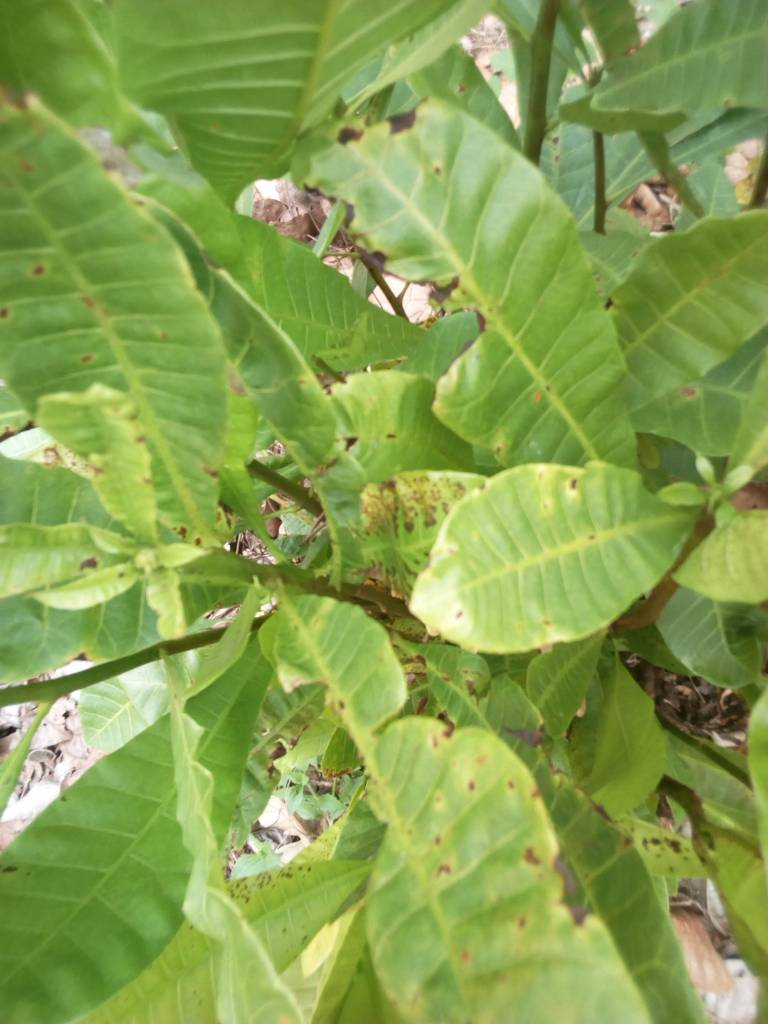Helopeltis anacardii: (266, 624, 619, 1024), (340, 107, 646, 452), (418, 464, 713, 647), (1, 382, 160, 627)
